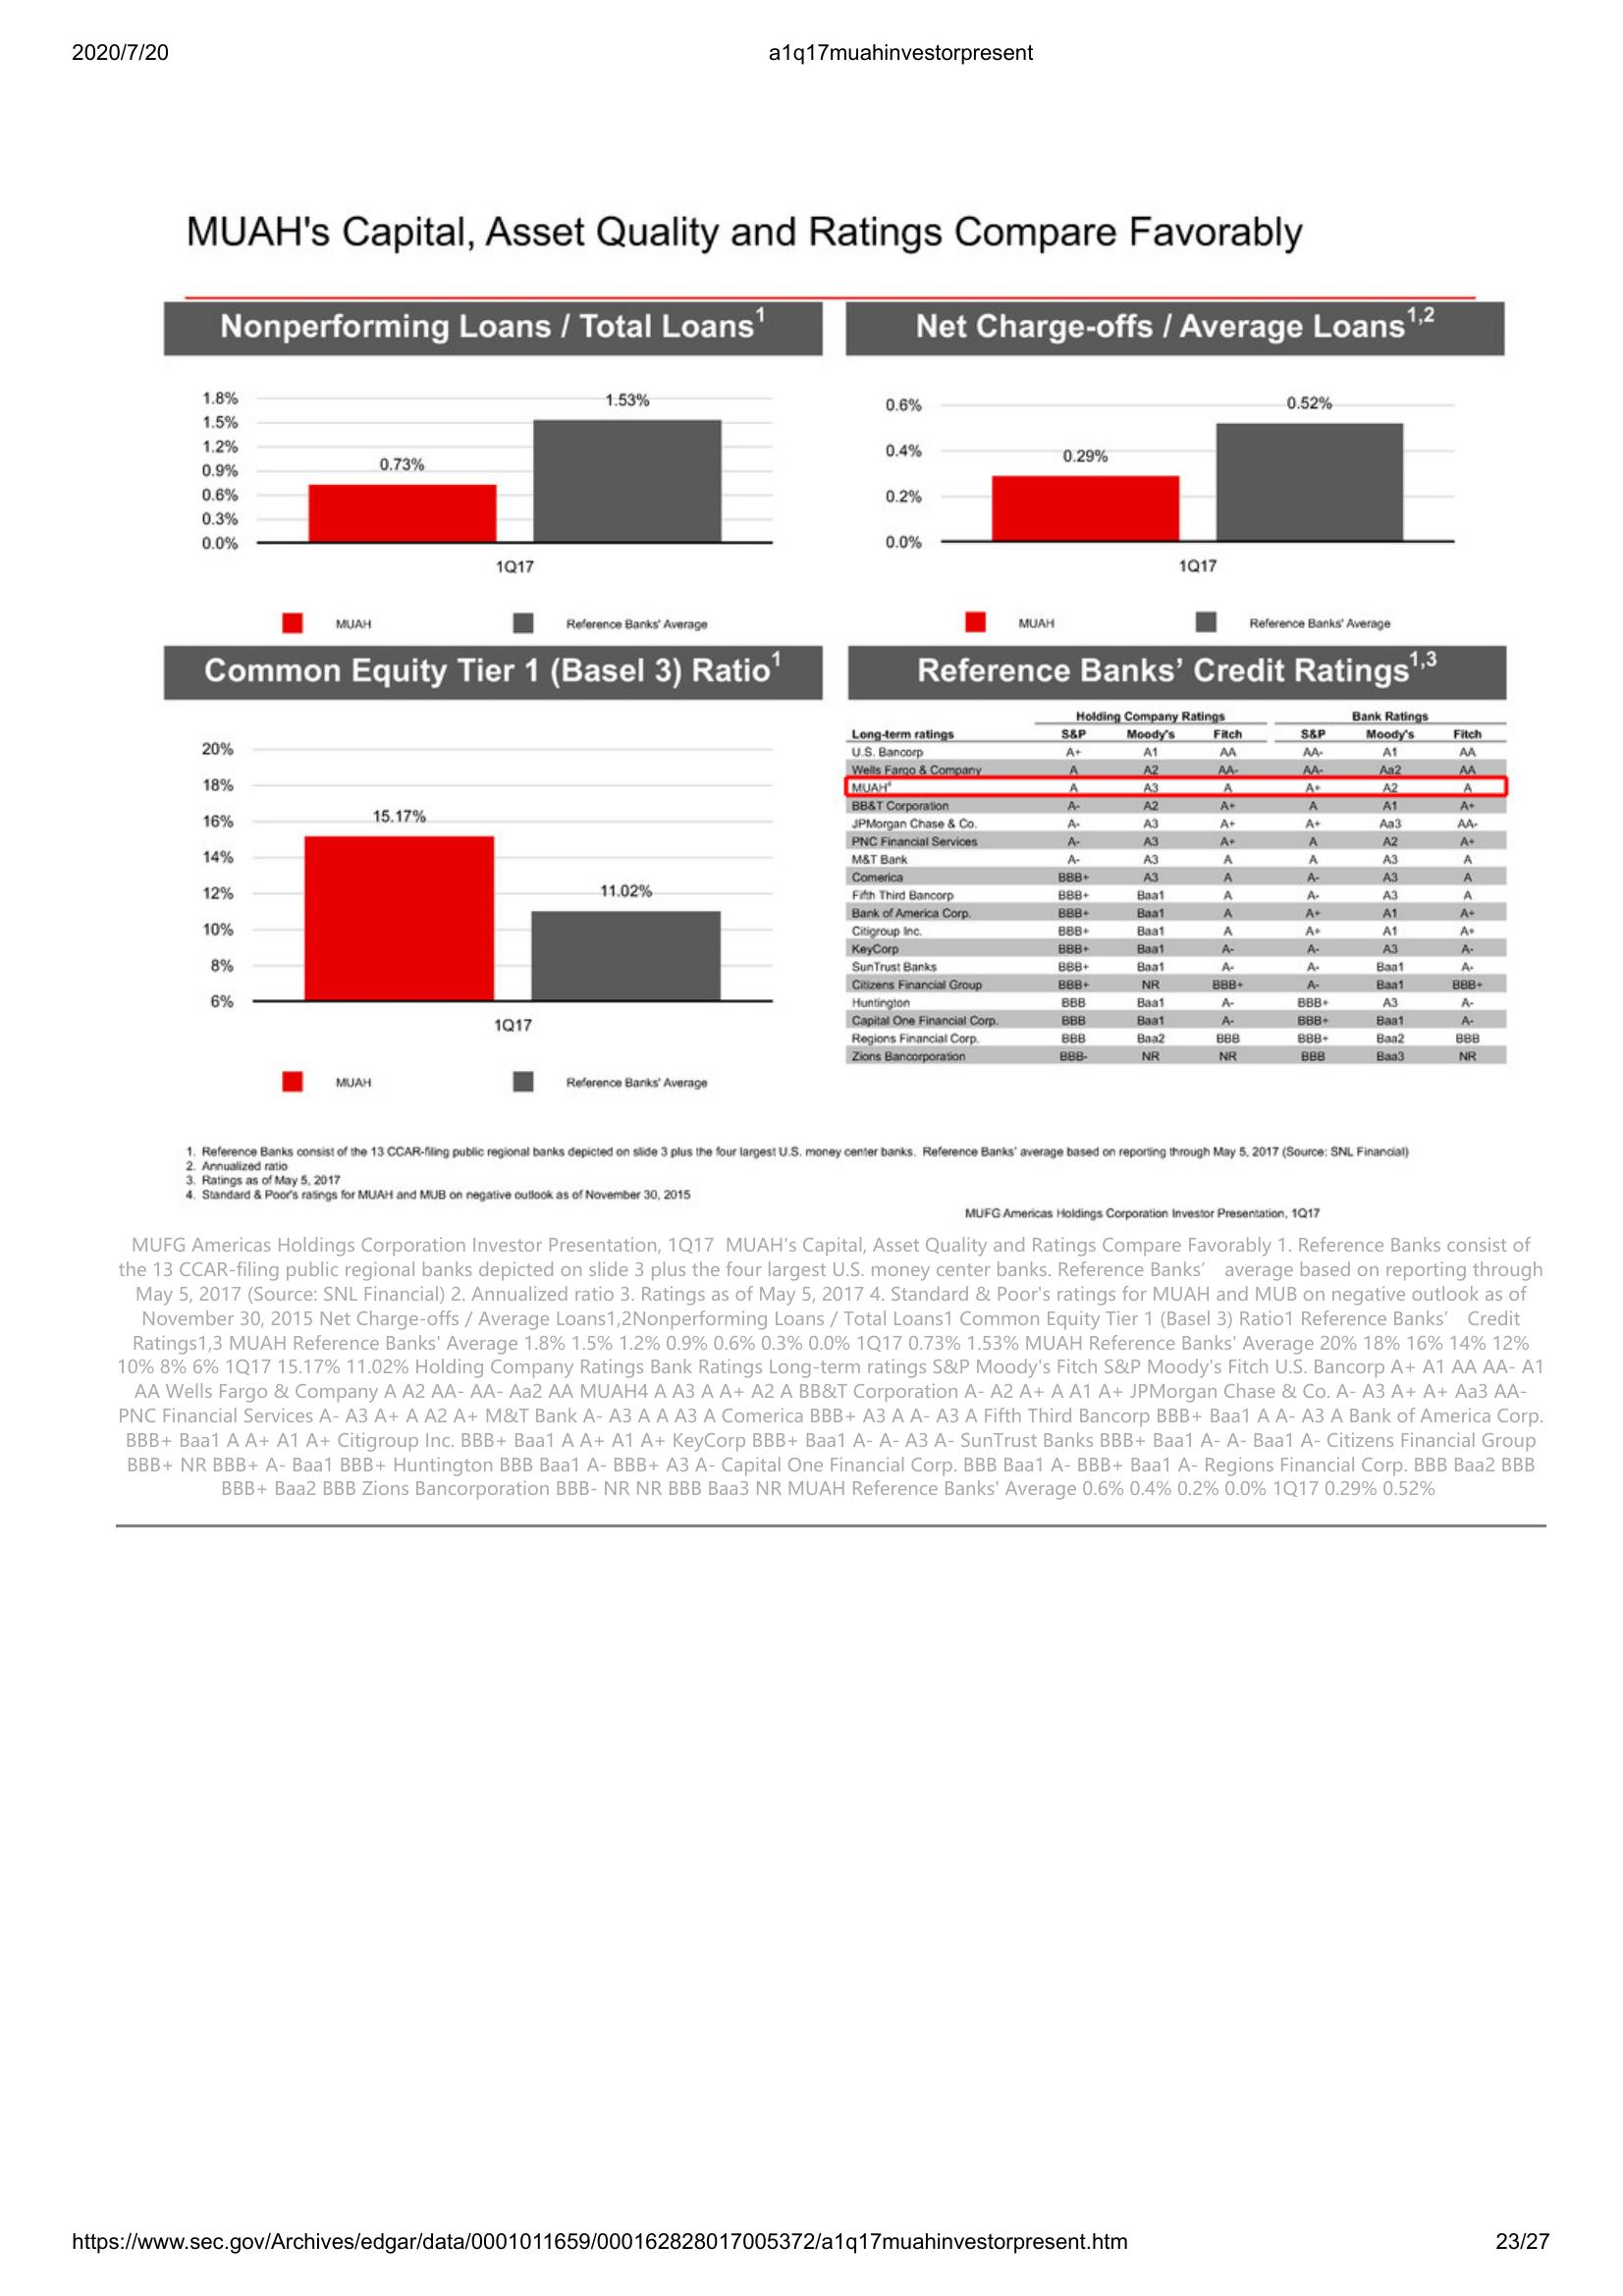table: (838, 637, 1521, 1067)
